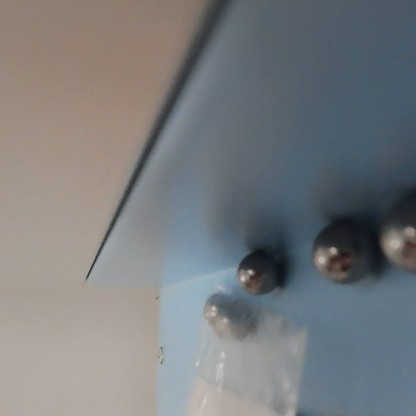ironball: (305, 214, 379, 284), (372, 201, 414, 273), (235, 250, 279, 294), (210, 302, 253, 340), (198, 289, 236, 313)
